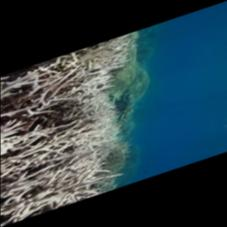bleached_corals: (0, 34, 131, 227)
